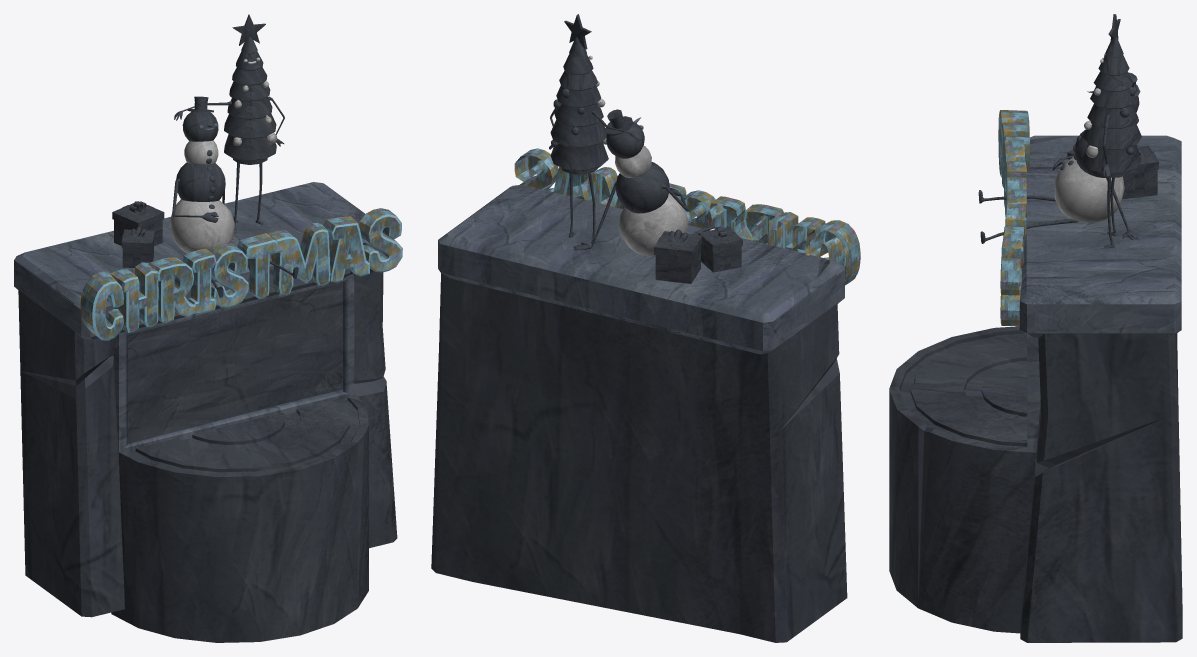
File: StandChristmas01.glb
3 renders of one model, left to right at view 1: azimuth 30°, elevation 25°; view 2: azimuth 150°, elevation 25°; view 3: azimuth 270°, elevation 25°, orthographic. The views are drawn at different scales.
Visible parts, largest first — view 1: StandChristmas01; view 2: StandChristmas01; view 3: StandChristmas01.
Boxes of the visible parts, x1=… form: StandChristmas01: x1=14, y1=14, x2=402, y2=642; StandChristmas01: x1=431, y1=14, x2=860, y2=642; StandChristmas01: x1=889, y1=14, x2=1182, y2=642.
Size of what is drawn, in the model's own units: 11.15 by 17.87 by 8.14.
1 material, 1 textured.
